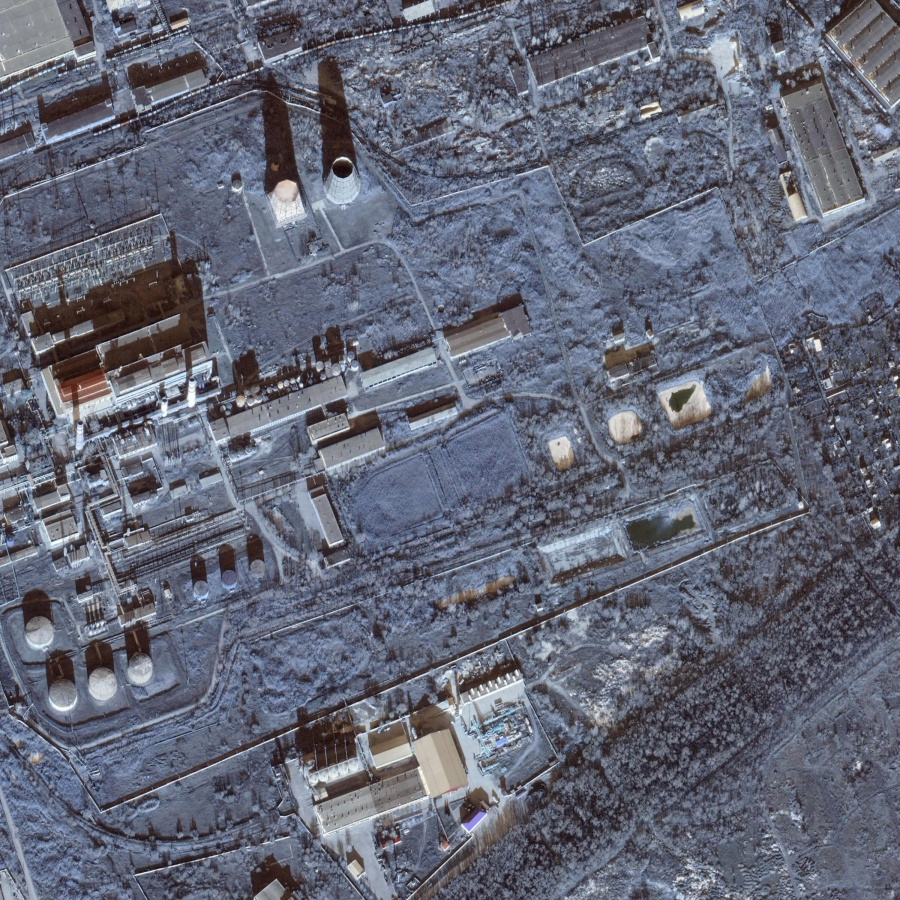PowerPlant: (4, 128, 404, 716)
